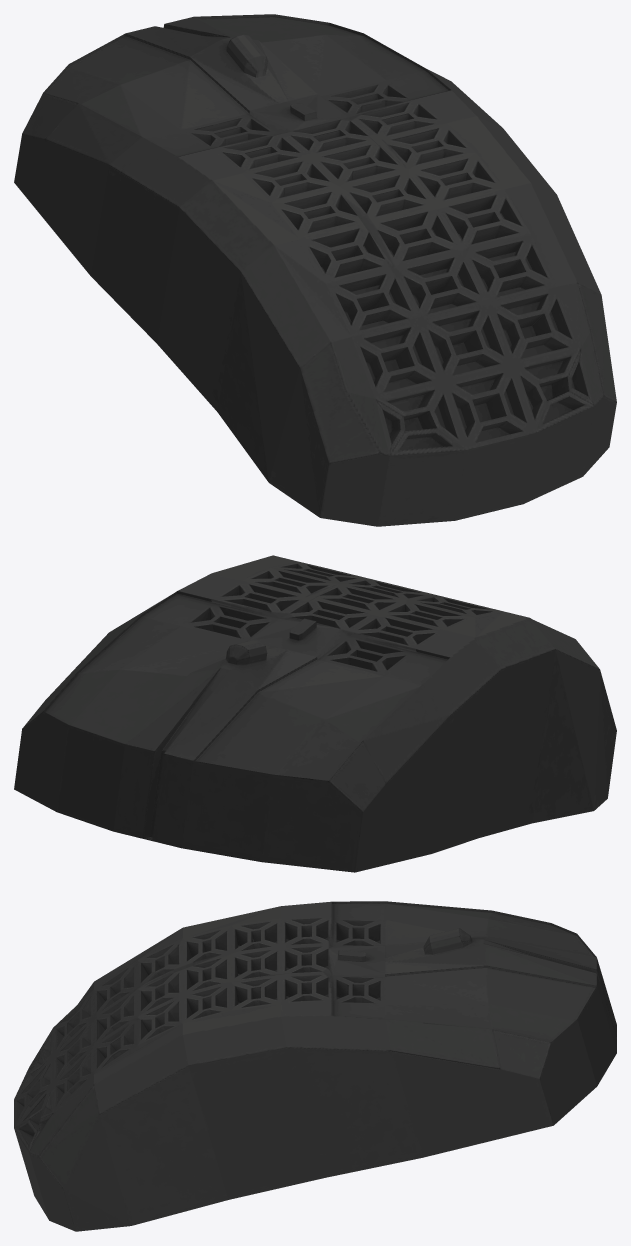
File: mouse.glb
3 renders of one model, top to bottom at view 1: azimuth 30°, elevation 25°; view 2: azimuth 150°, elevation 25°; view 3: azimuth 270°, elevation 25°, orthographic. The views are drawn at different scales.
Parts seen in each view (by area): view 1: Mouse; view 2: Mouse; view 3: Mouse.
Part boxes in pixels (box(x1,y1,x2,y2)): Mouse: box(14, 14, 616, 526); Mouse: box(14, 555, 616, 872); Mouse: box(14, 901, 616, 1231).
Size of the model in its own units: 0.0607 by 0.05 by 0.1086.
1 material, 1 textured.
